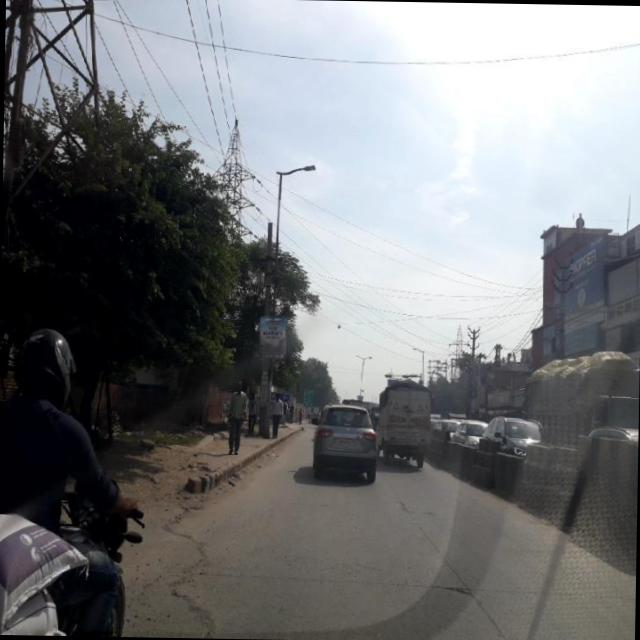pothole: (152, 498, 236, 634)
